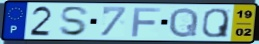2: (30, 6, 55, 37)
7: (100, 6, 128, 38)
F: (130, 6, 163, 38)
Q: (167, 6, 200, 39), (201, 7, 231, 39)
S: (58, 6, 91, 38)
